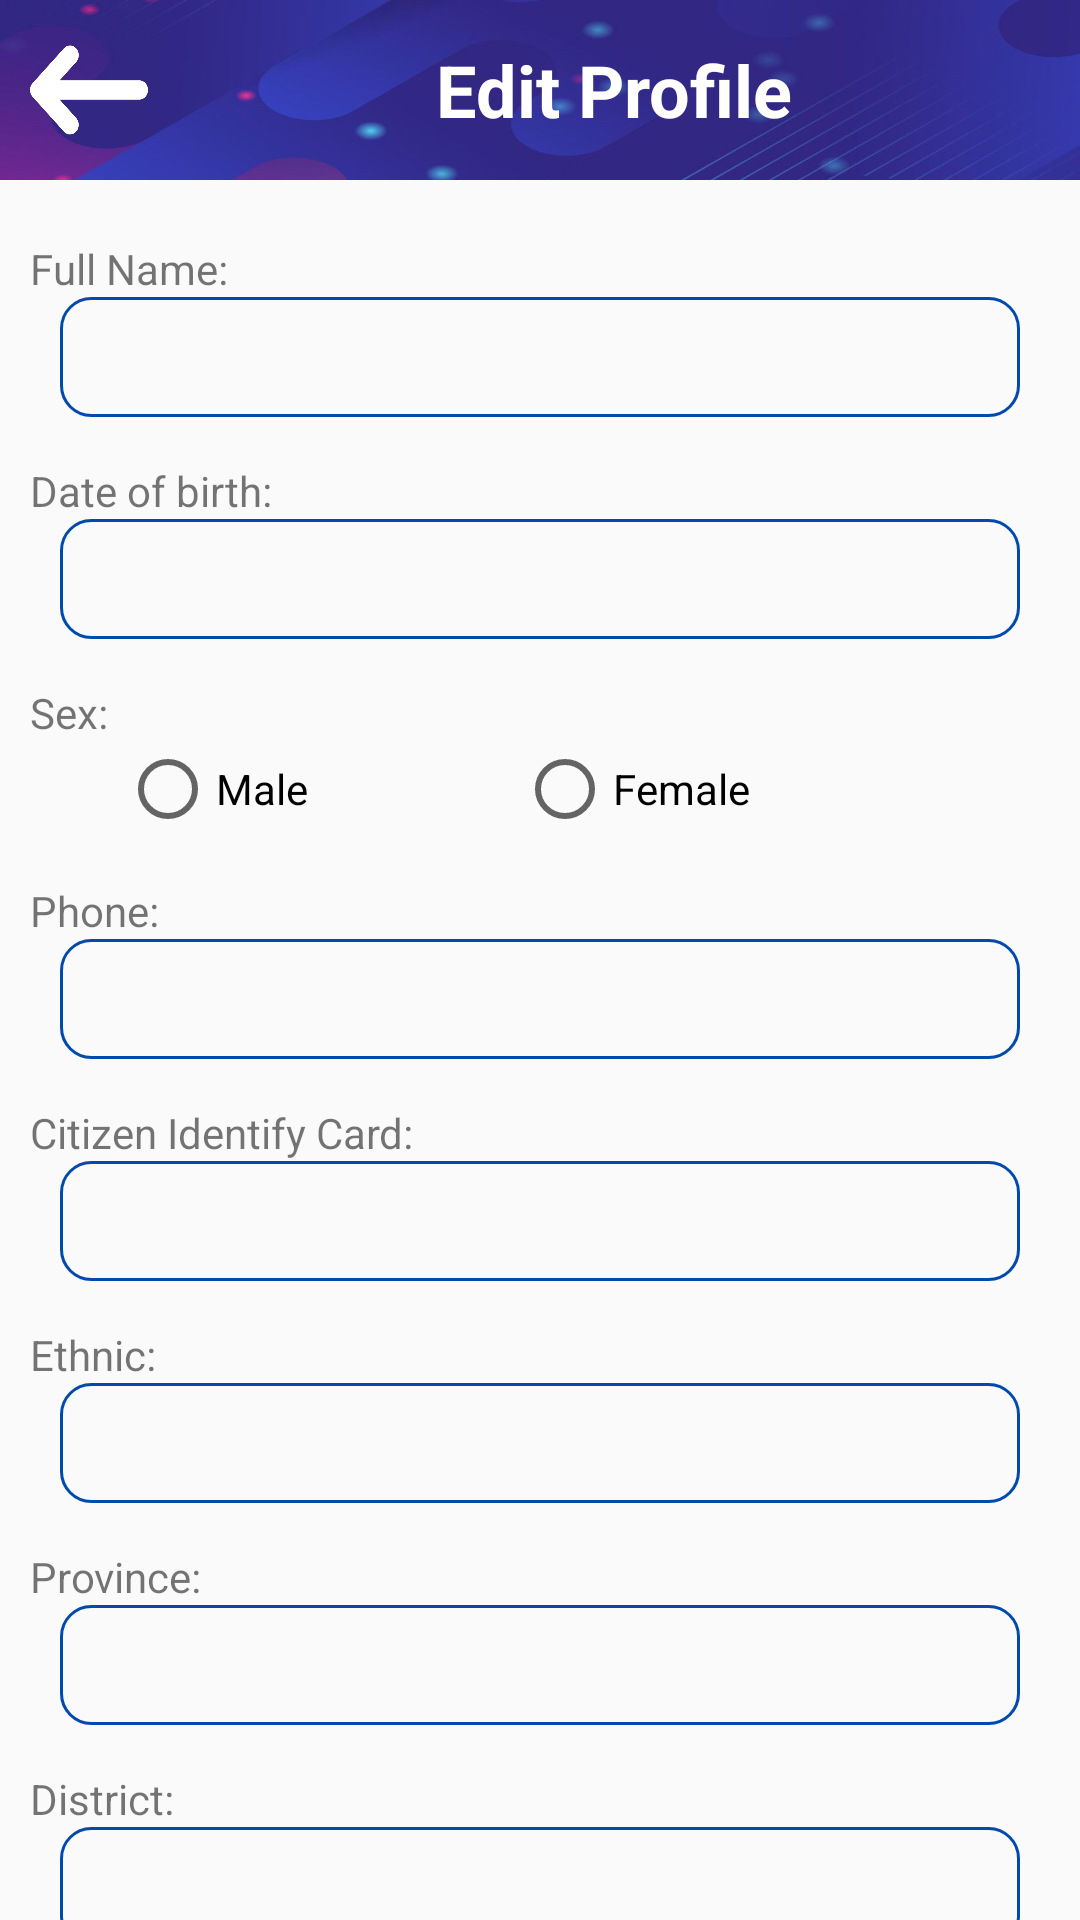

Screen size 1080*1920. Icon name, then its box in pixels as Rect(x1, y1, x2, y2):
back: Rect(30, 45, 148, 135)
